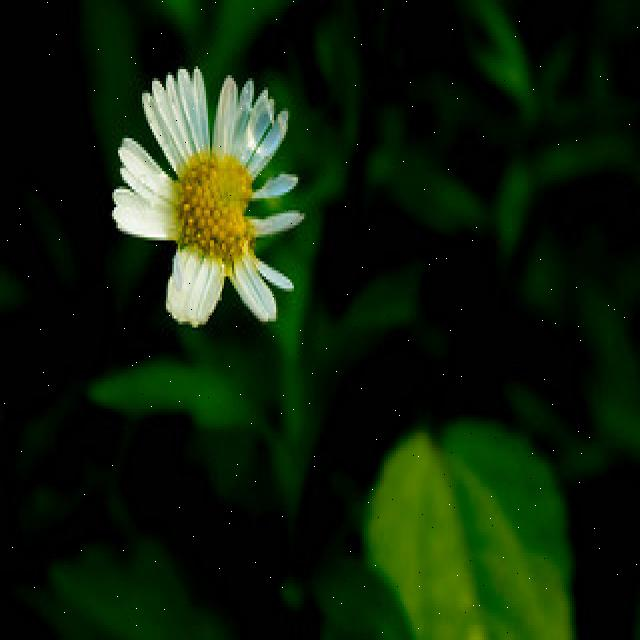Bloomed: (108, 63, 304, 328)
